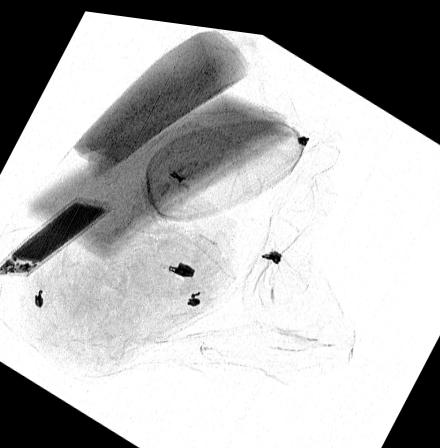Powerbank: (0, 194, 111, 276)
